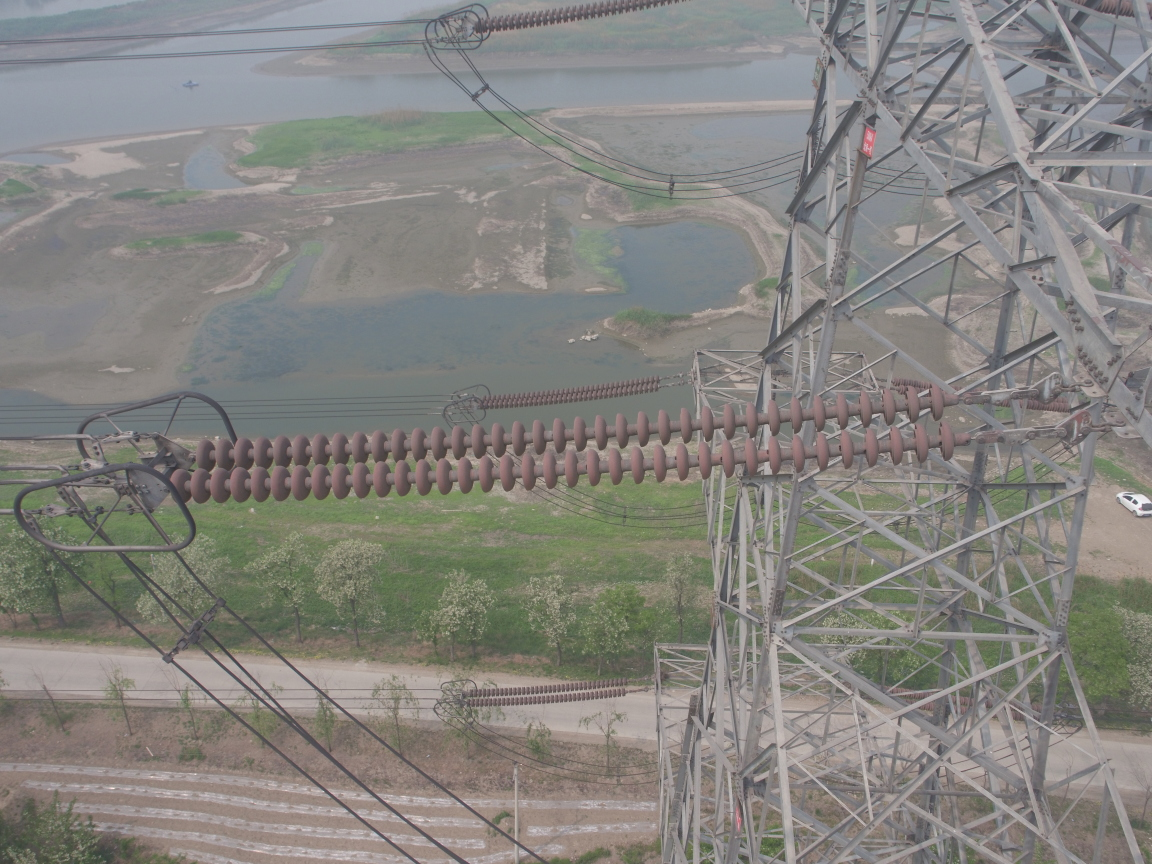insulator: (161, 379, 999, 507), (468, 1, 696, 35), (477, 374, 673, 412), (460, 674, 642, 709)
